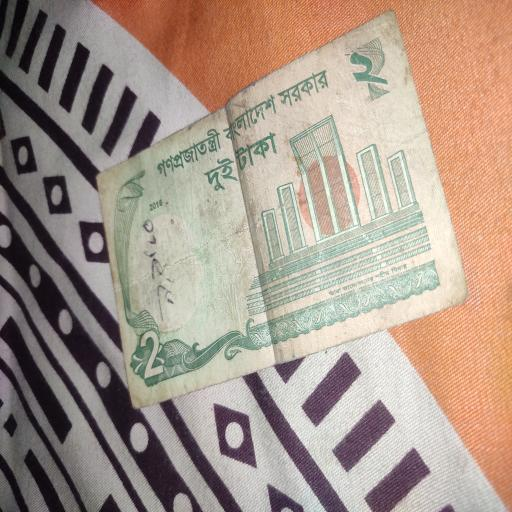2taka: (97, 10, 466, 409)
